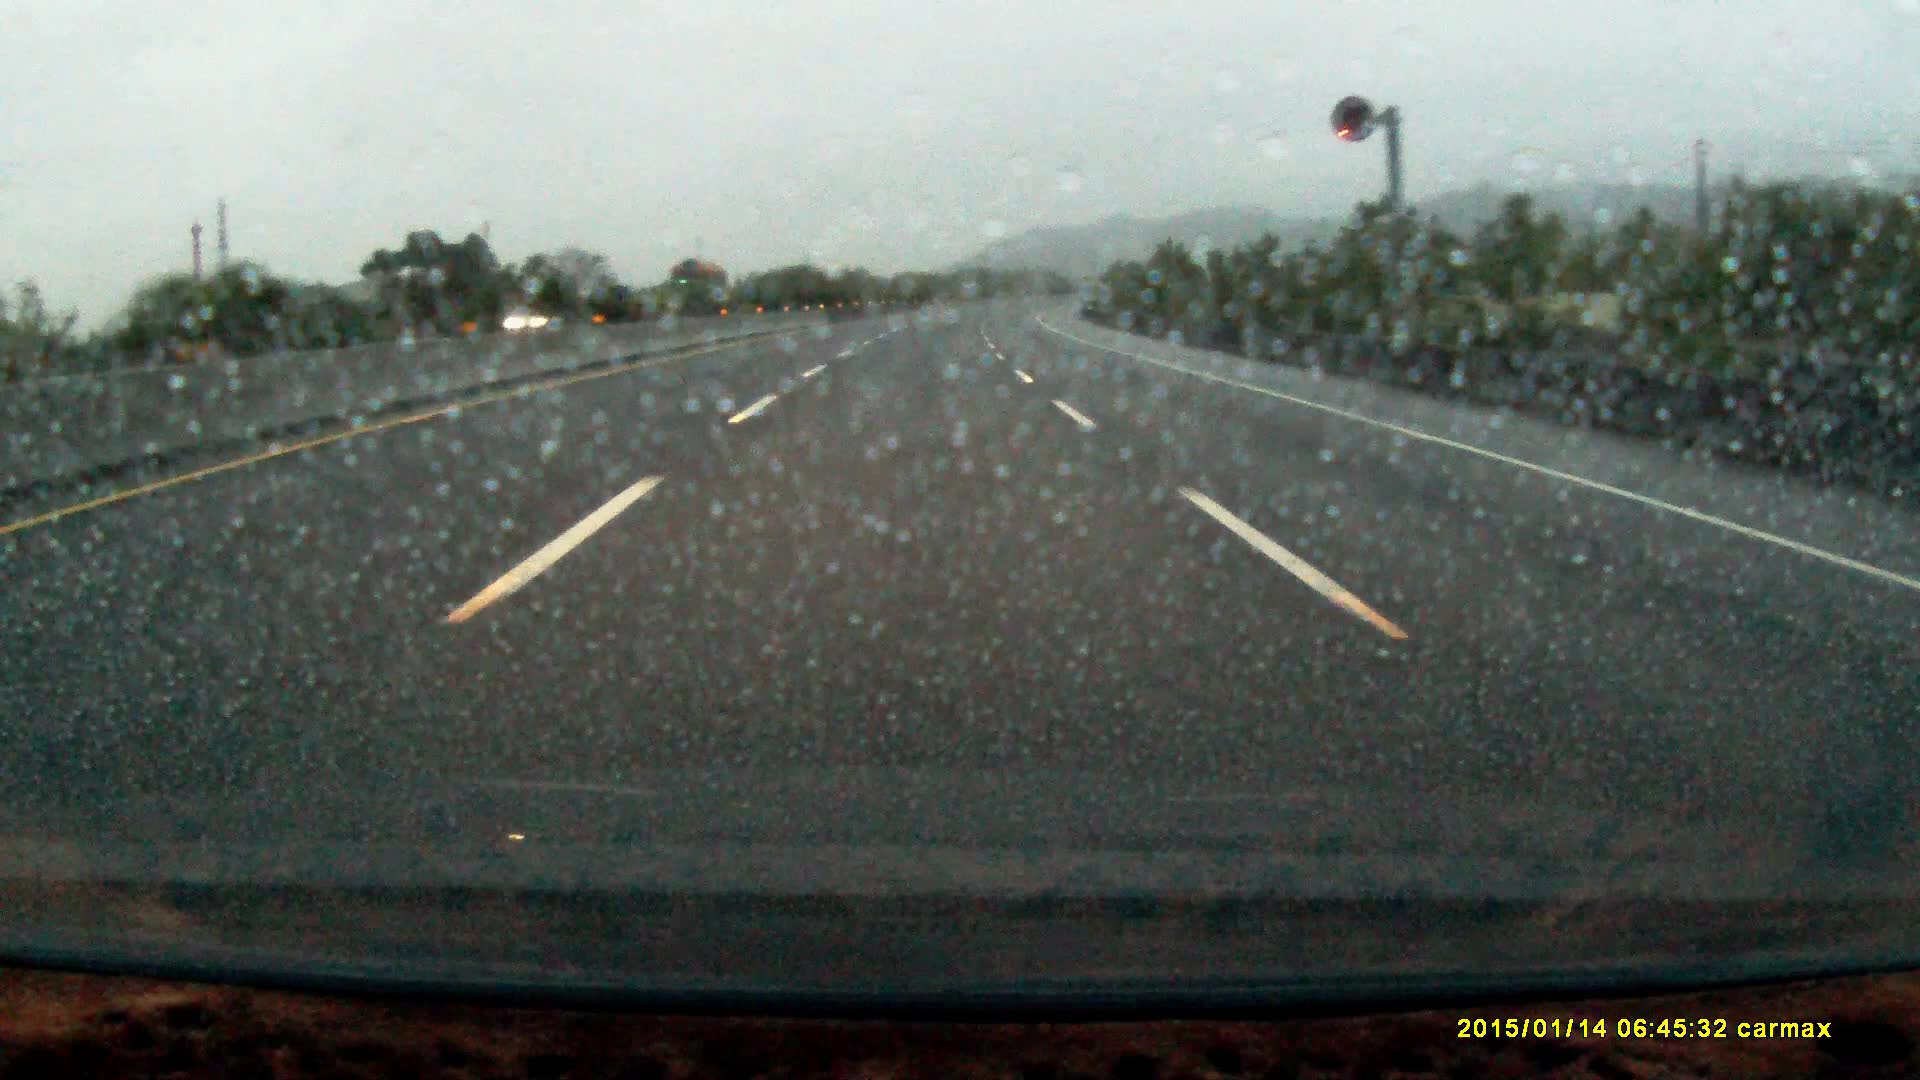vehicle: (661, 261, 729, 316), (505, 301, 578, 330)
